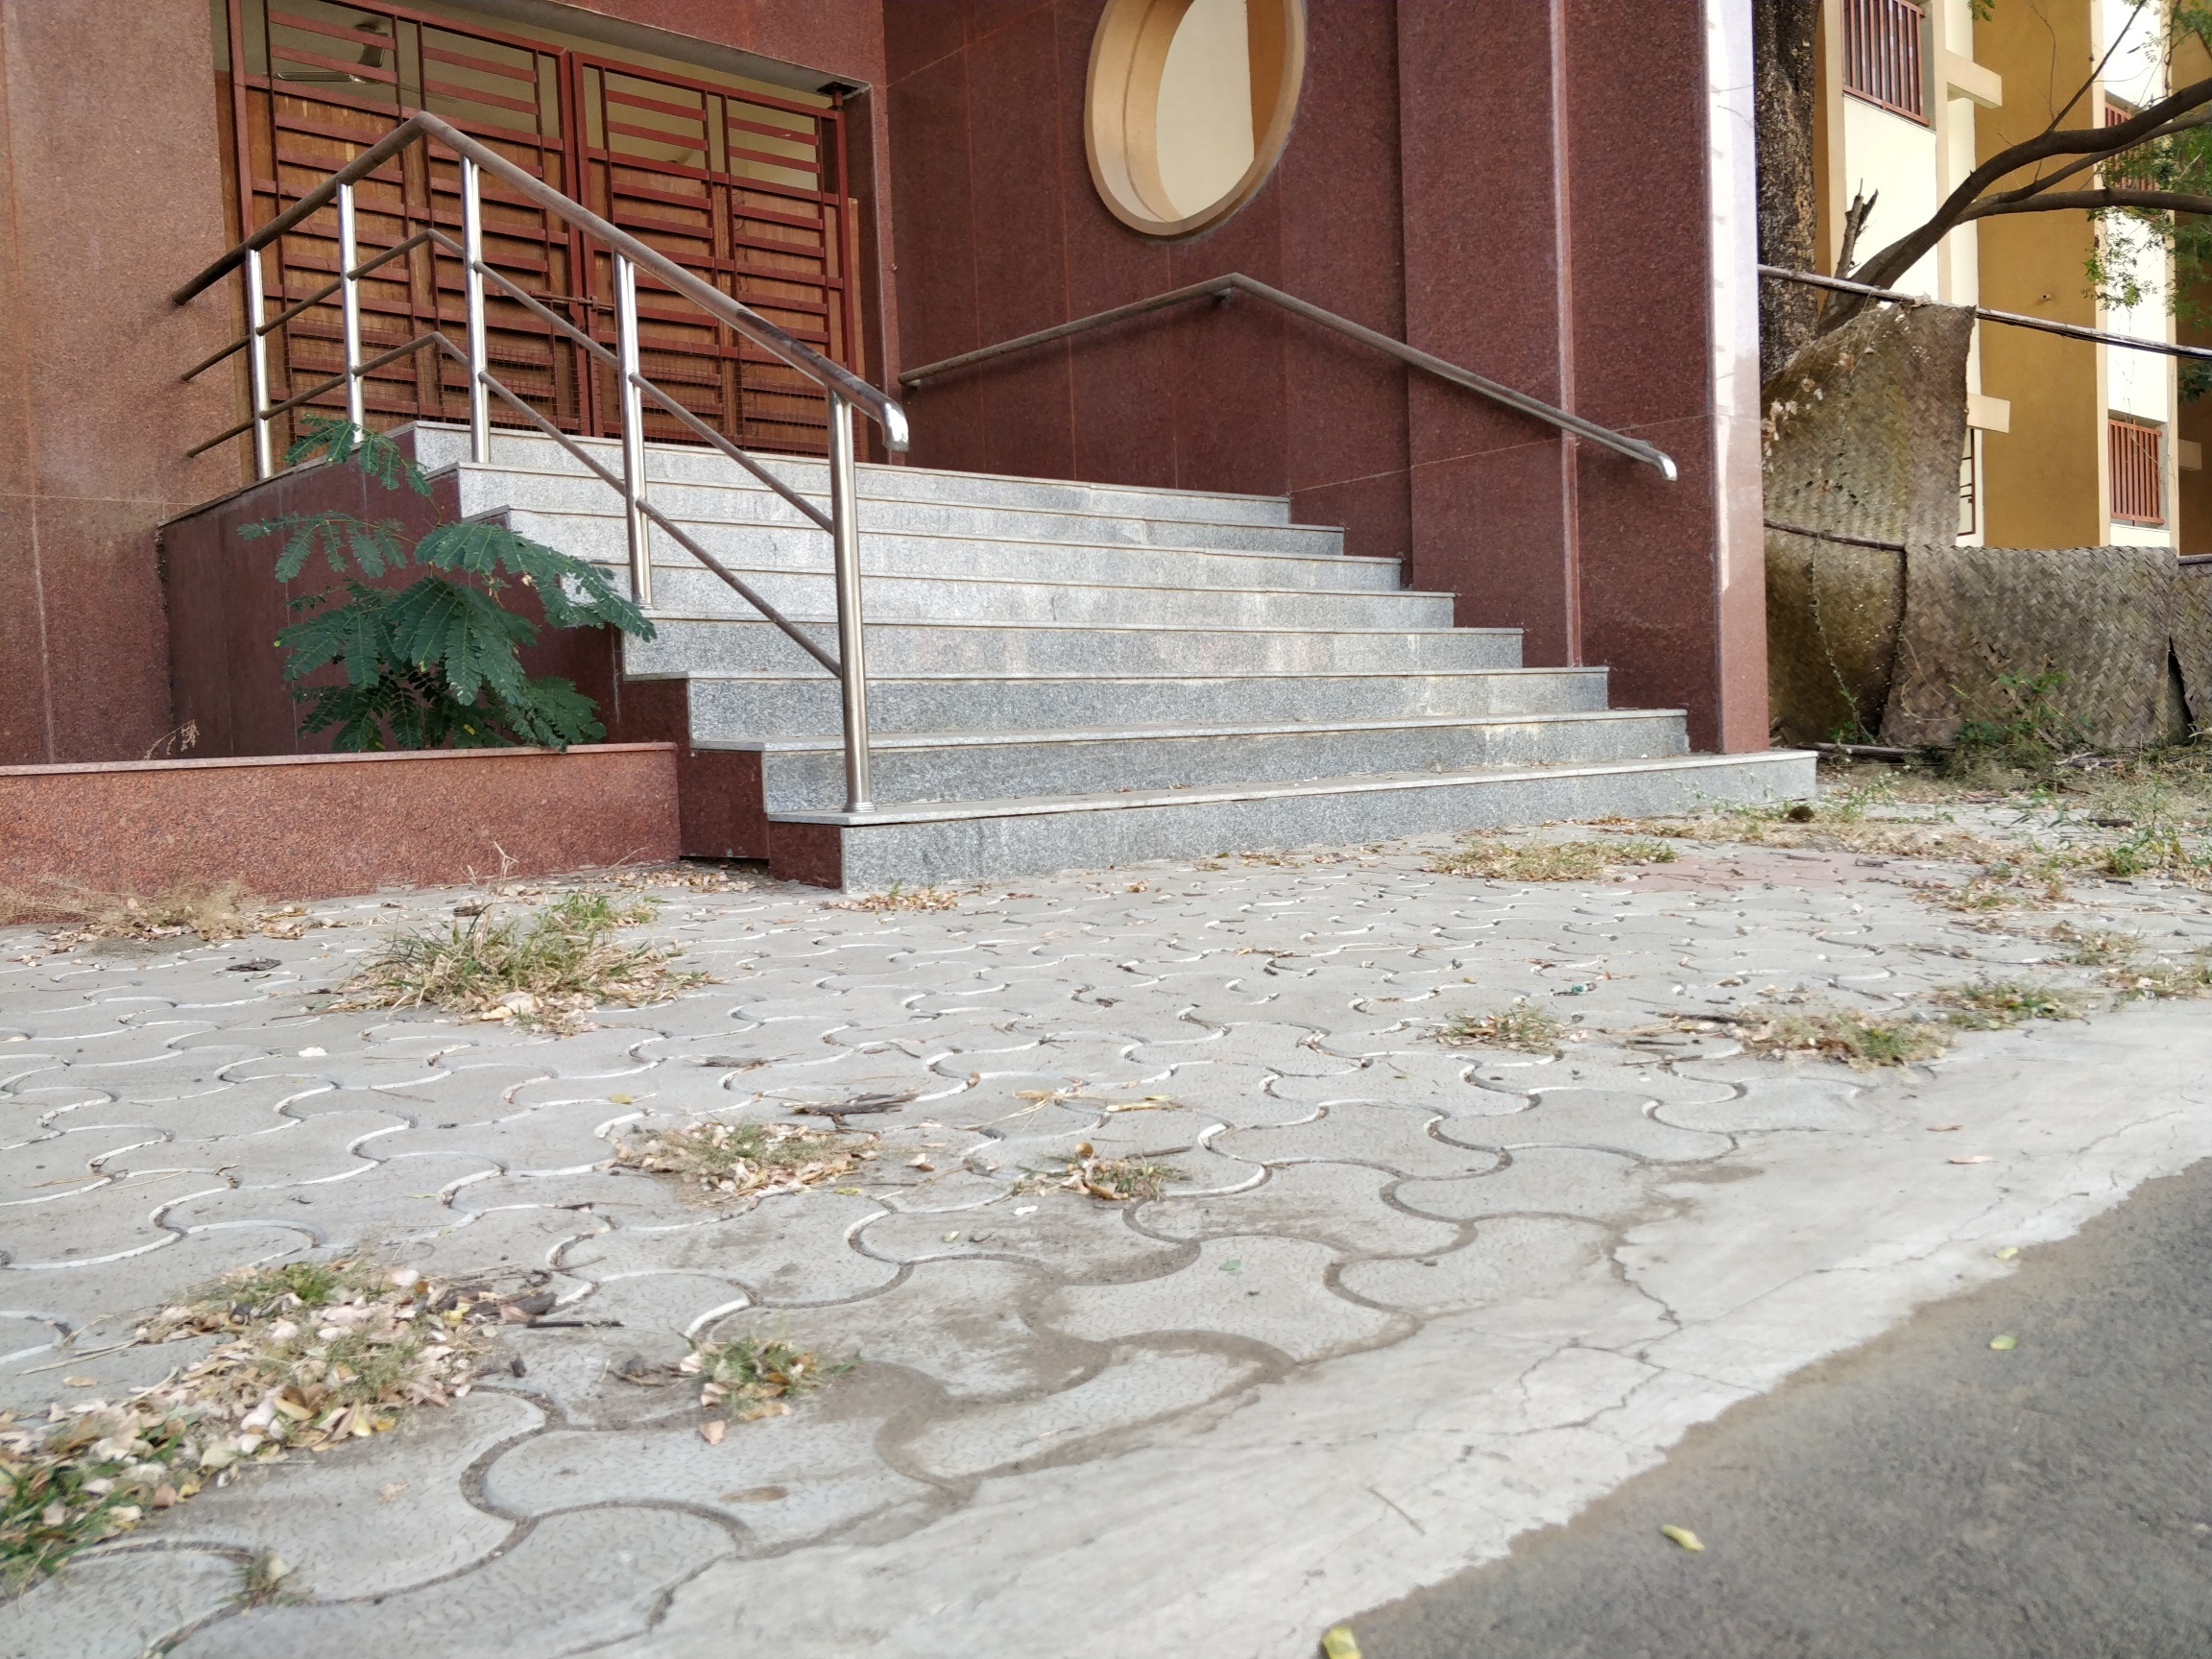stairs_up: (416, 418, 1860, 824)
